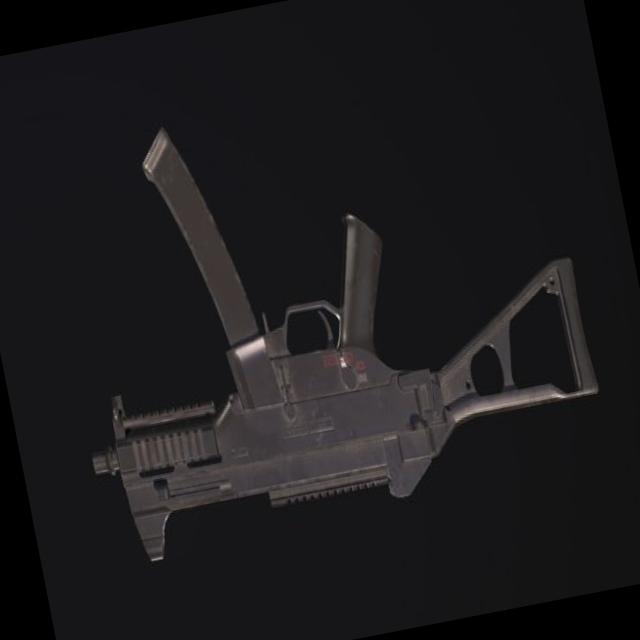Weapon: (24, 52, 620, 586)
